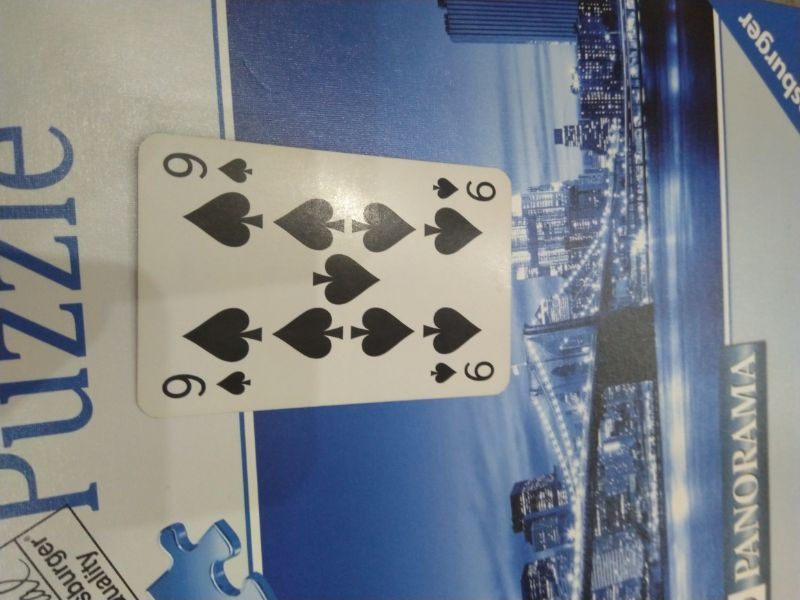9s: (158, 148, 256, 186), (158, 366, 255, 401), (429, 174, 499, 205), (425, 358, 499, 387)
